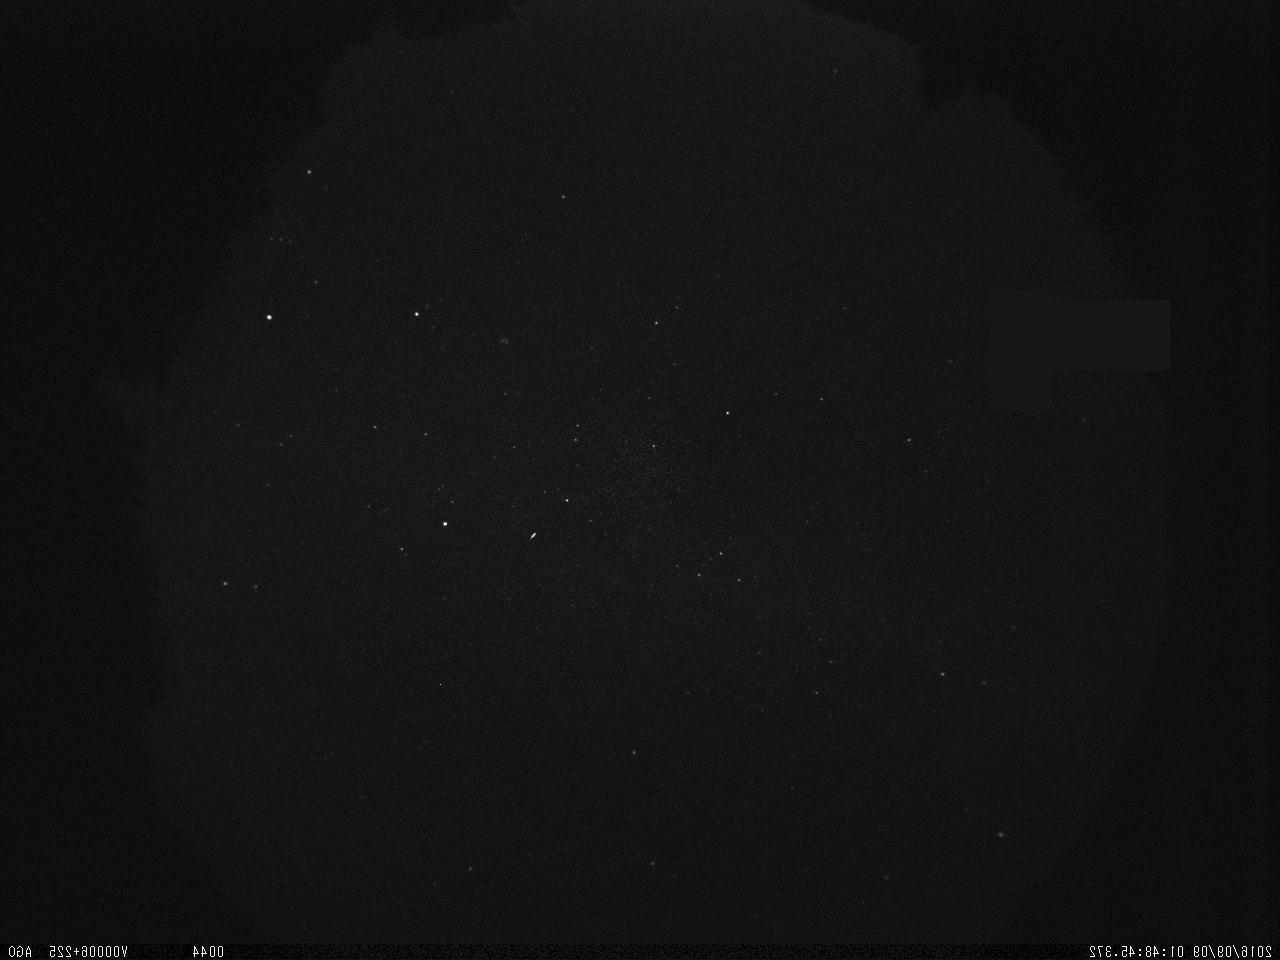meteor: (519, 529, 540, 548)
